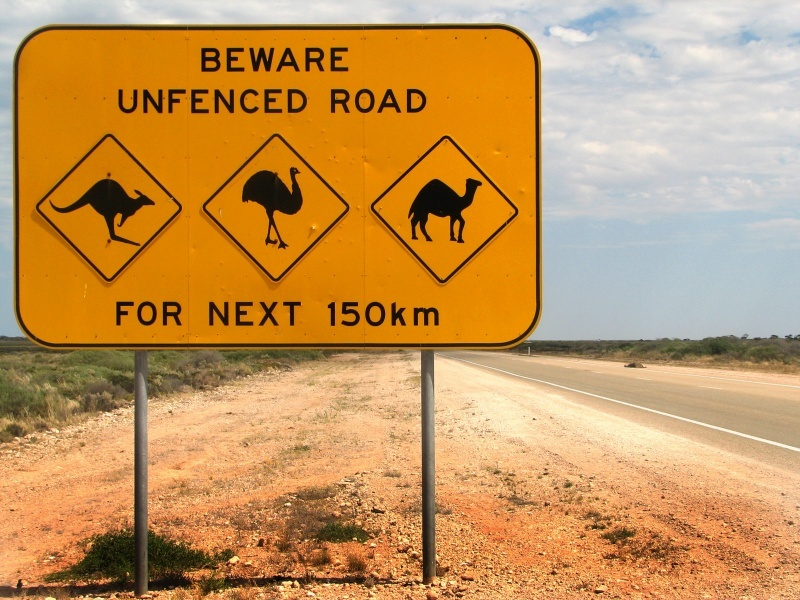text: (337, 301, 352, 328), (353, 301, 368, 328), (369, 301, 384, 328), (385, 301, 400, 328), (401, 301, 416, 328), (417, 301, 432, 328), (337, 88, 352, 115), (353, 88, 368, 115), (369, 88, 384, 115), (385, 88, 400, 115), (401, 88, 416, 115), (129, 301, 144, 327), (145, 301, 160, 327), (161, 301, 176, 327), (209, 47, 224, 73), (225, 47, 240, 73), (241, 47, 256, 73), (257, 47, 272, 73), (273, 47, 288, 73), (289, 47, 304, 73), (305, 47, 320, 73), (321, 47, 336, 73), (129, 89, 144, 115), (145, 89, 160, 115), (161, 89, 176, 115), (177, 89, 192, 115), (193, 89, 208, 115), (209, 89, 224, 115), (225, 89, 240, 115), (241, 89, 256, 115), (257, 89, 272, 115), (273, 89, 288, 115), (289, 89, 304, 115), (209, 301, 224, 326), (225, 301, 240, 326), (241, 301, 256, 326), (257, 301, 272, 326), (273, 301, 288, 326), (289, 301, 303, 326), (115, 301, 128, 327), (337, 47, 350, 73), (117, 89, 128, 115), (417, 88, 427, 115), (328, 301, 336, 328), (201, 47, 208, 73), (433, 301, 439, 328), (177, 301, 183, 327), (331, 88, 336, 115), (305, 89, 309, 115)
